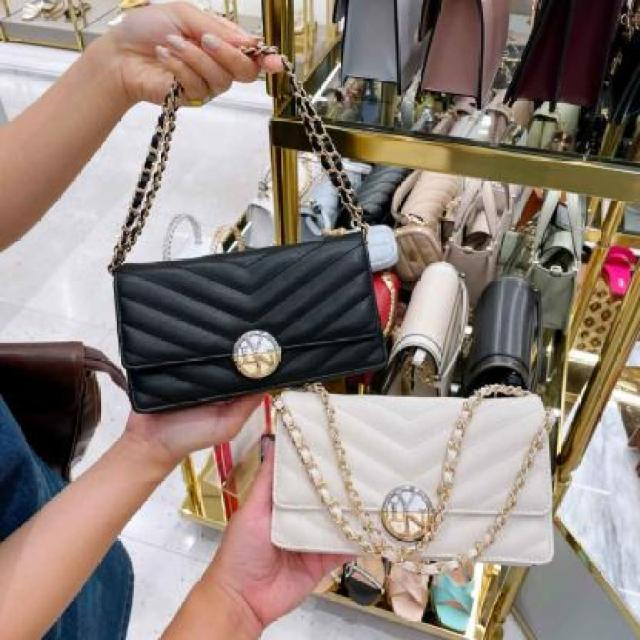Bag: (86, 149, 392, 422), (258, 381, 588, 587)
